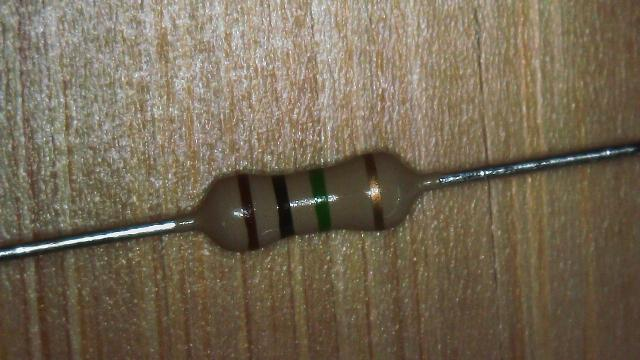black: (272, 175, 294, 238)
brown: (238, 174, 258, 249)
gold: (364, 154, 384, 228)
green: (308, 168, 332, 232)
resistor: (180, 133, 440, 269)
